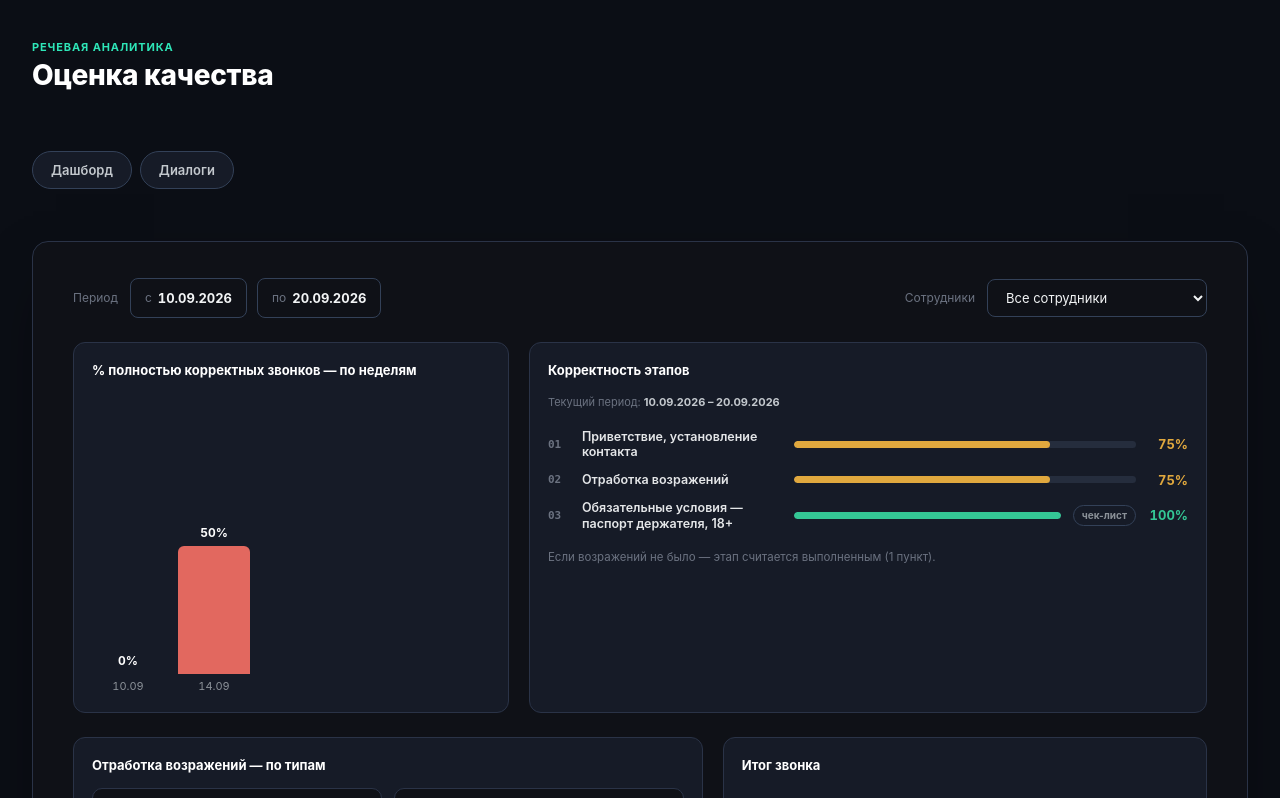
Test: экран оценки качества › столбец недели ставит период на неделю, кнопка в блоке возвращает прежний
This screenshot has width=1280, height=798.
Expected: the element named "Полностью корректные звонки по неделям" is shown, 73,342 -> 509,712
Expected: the button "к периоду" is not shown
Note: Столбец неполной недели ведёт на её часть внутри периода, а не на семь дней.
Click the button named "Неделя 10.09–13.09". click: click(128, 544)
box: 92,394 -> 164,694
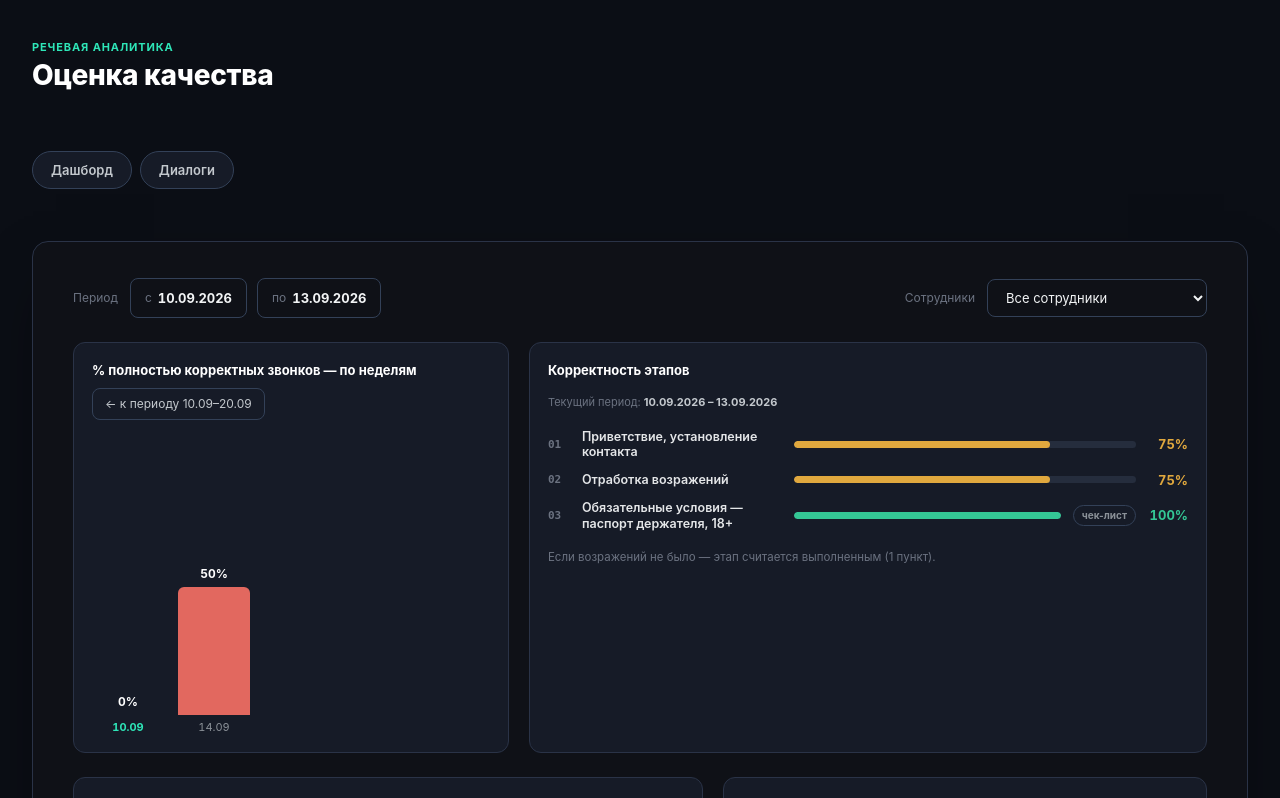
Click the button "← к периоду 10.09–20.09". click: click(178, 404)
box: 92,388 -> 265,420
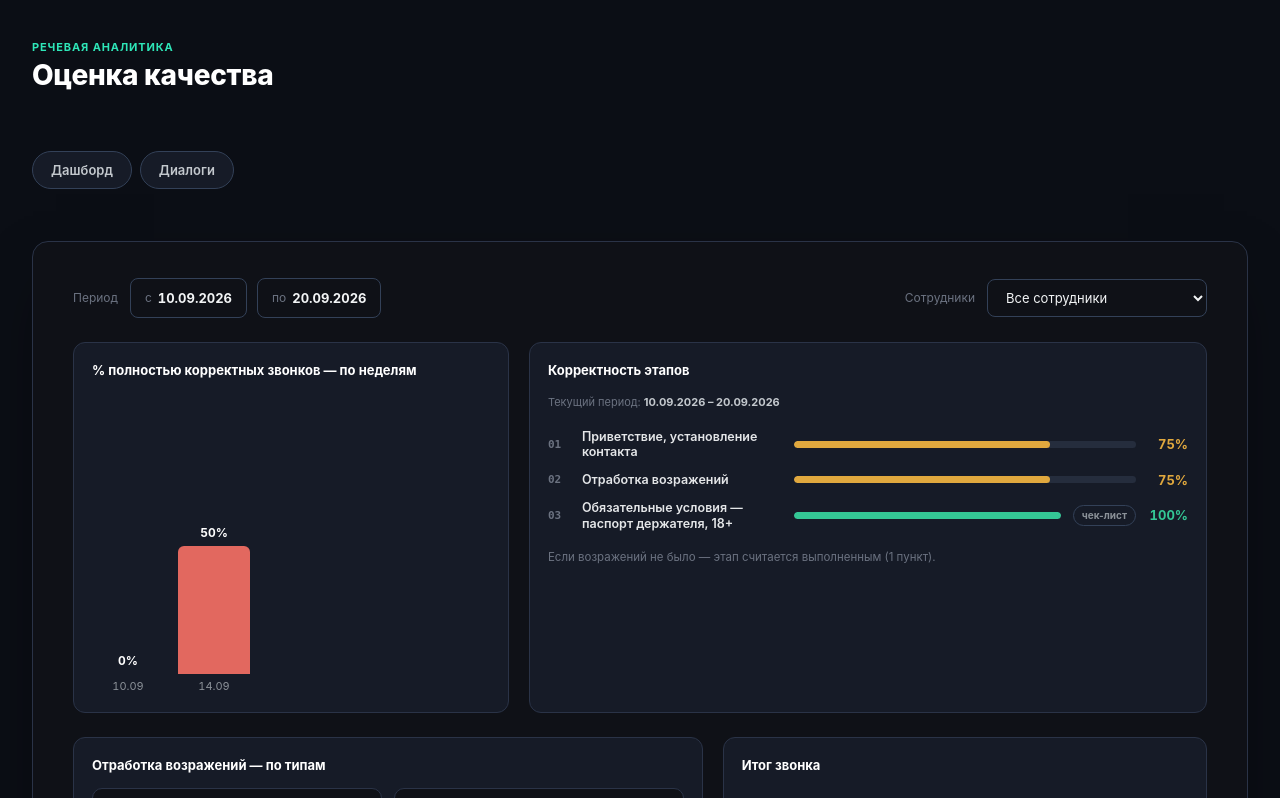
Now the button "к периоду" is gone
